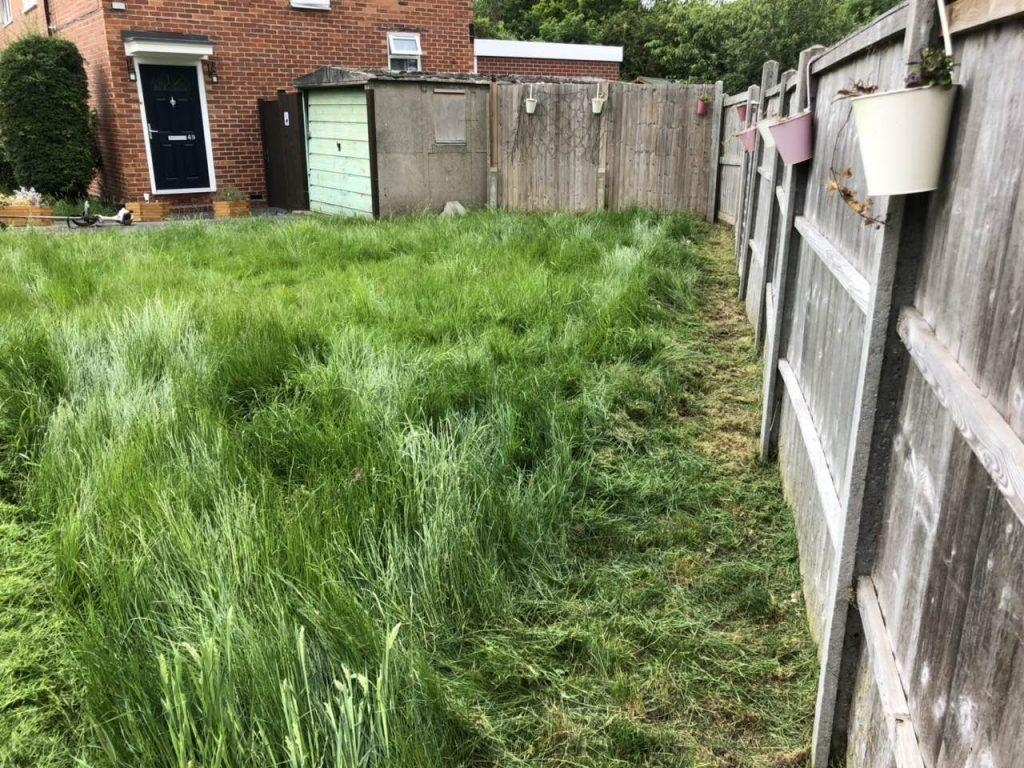overgrown grass: (0, 215, 686, 767)
